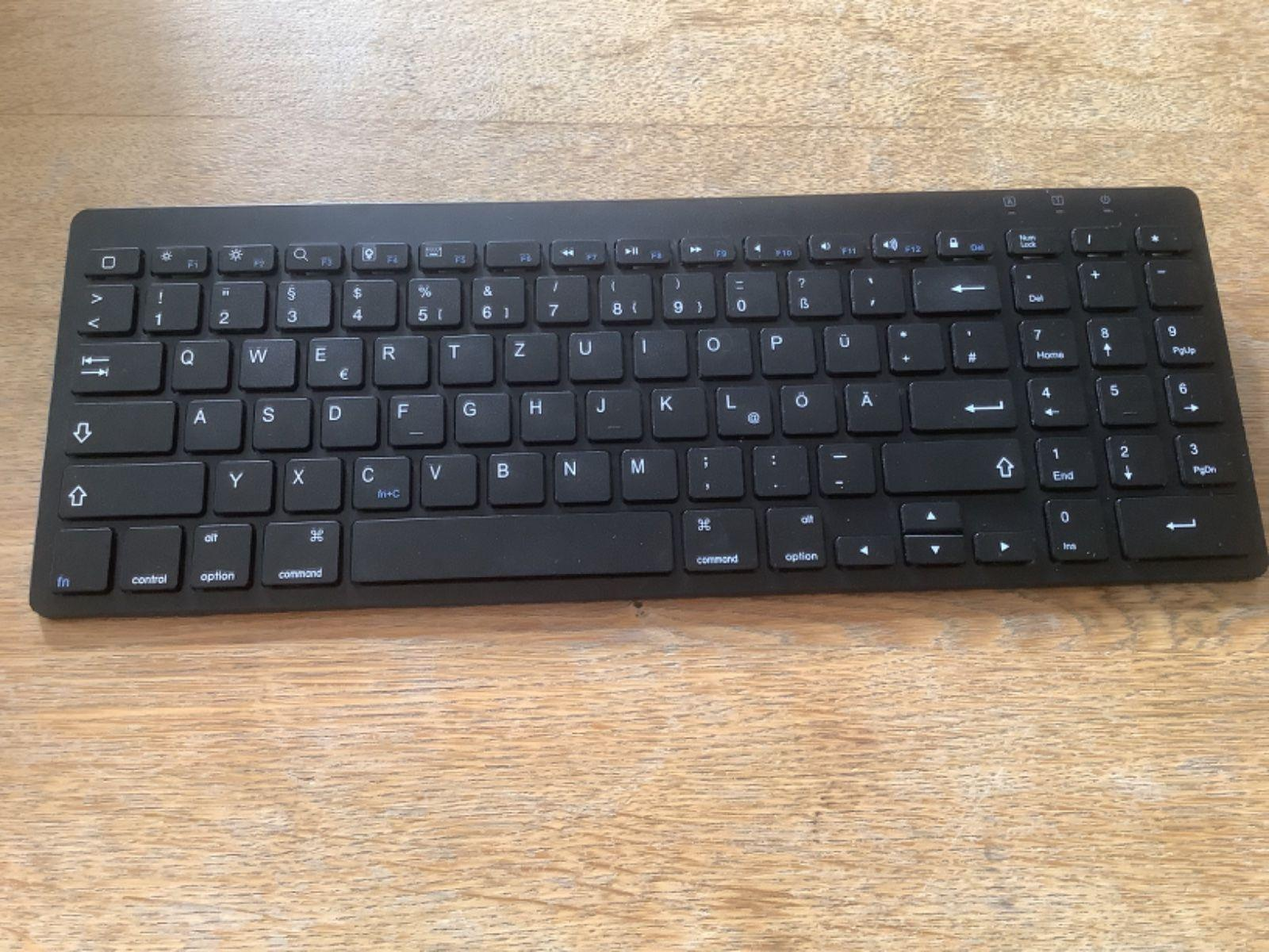0: (720, 267, 777, 317)
1: (138, 278, 197, 330)
2: (205, 277, 265, 328)
3: (271, 275, 330, 327)
4: (337, 275, 394, 326)
5: (401, 273, 459, 324)
6: (466, 272, 523, 323)
7: (531, 271, 587, 322)
8: (594, 270, 650, 321)
9: (657, 268, 713, 319)
a: (180, 395, 241, 450)
accent: (846, 263, 902, 313)
ae: (842, 379, 900, 432)
alt-left: (185, 518, 253, 589)
altgr-right: (677, 503, 757, 571)
b: (482, 447, 543, 504)
c: (347, 451, 410, 509)
comma: (682, 442, 742, 497)
d: (316, 392, 376, 447)
del: (908, 261, 999, 311)
e: (302, 332, 362, 386)
enter: (906, 374, 1014, 428)
f: (384, 390, 443, 445)
g: (450, 389, 508, 443)
h: (516, 387, 574, 441)
hash: (947, 317, 1007, 369)
i: (628, 326, 686, 377)
j: (581, 385, 639, 439)
k: (647, 382, 705, 437)
keyboard: (25, 181, 1266, 620)
l: (712, 382, 770, 436)
less: (75, 281, 132, 332)
m: (615, 443, 676, 500)
minus: (812, 439, 873, 493)
n: (549, 446, 609, 502)
o: (692, 324, 750, 375)
oe: (776, 379, 835, 434)
p: (756, 322, 814, 374)
plus: (884, 318, 942, 370)
point: (748, 440, 807, 495)
q: (167, 336, 228, 390)
r: (369, 332, 427, 385)
s: (247, 393, 309, 449)
shift-left: (56, 457, 205, 516)
shift-lock: (61, 397, 173, 452)
shift-right: (878, 435, 1024, 491)
space: (348, 509, 673, 580)
ss: (783, 265, 839, 316)
strg-left: (114, 521, 183, 593)
strg-right: (763, 501, 826, 570)
t: (435, 329, 491, 382)
tab: (67, 336, 160, 392)
u: (564, 326, 621, 380)
ue: (819, 321, 878, 372)
v: (416, 450, 476, 507)
w: (234, 333, 295, 388)
x: (279, 454, 341, 510)
y: (209, 455, 271, 512)
z: (500, 328, 556, 382)
